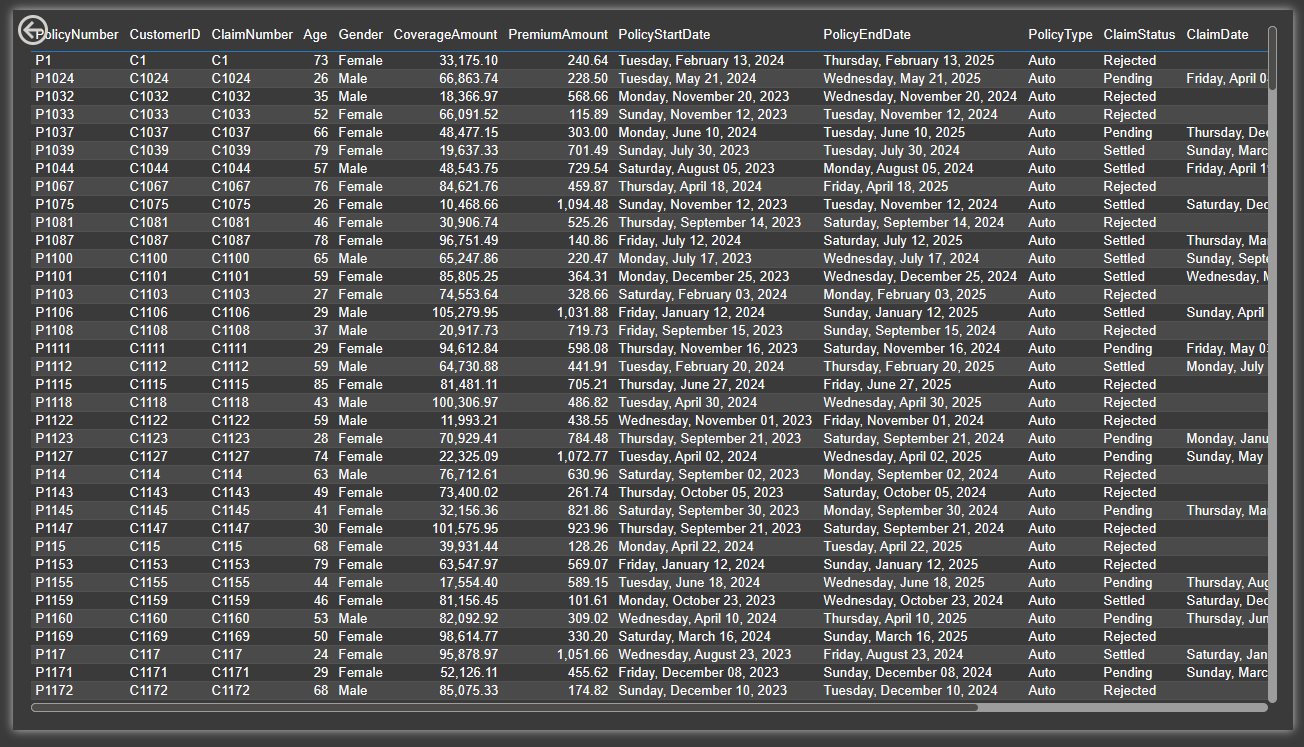

Layout of this report page (visuals, bound fields, positions):
{"tool":"powerbi","page":{"name":"Page 2","canvas":[1280,720],"ordinal":1},"visuals":[{"type":"tableEx","fields":{"Values":["InsuranceData.PolicyNumber","InsuranceData.CustomerID","InsuranceData.ClaimNumber","InsuranceData.Age","InsuranceData.Gender","InsuranceData.CoverageAmount","InsuranceData.PremiumAmount","InsuranceData.PolicyStartDate","InsuranceData.PolicyEndDate","InsuranceData.PolicyType","InsuranceData.ClaimStatus","InsuranceData.ClaimDate"]},"box":[12.4,10.6,1256.5,696.1],"z":0},{"type":"actionButton","box":[0,0,100,40],"z":1}]}

Visuals, with their boxes on the page's 1280x720 design canvas (x1, y1, x2, y2). These are canvas units, not pixel positions in the 1304x747 screenshot, which may show the page scaled, cropped or inside an application window:
tableEx - InsuranceData.PolicyNumber x InsuranceData.CustomerID: select_region(12, 11, 1269, 707)
actionButton: select_region(0, 0, 100, 40)
